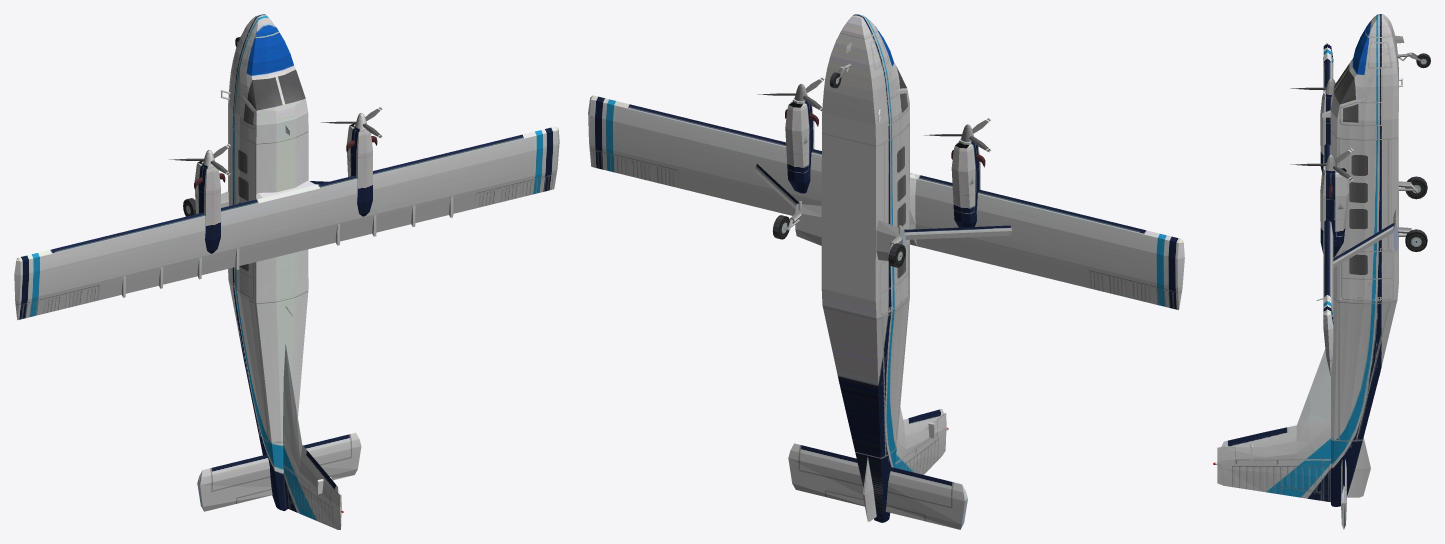
The model's file is y12-harbin.glb.
3 renders of one model, left to right at view 1: azimuth 30°, elevation 25°; view 2: azimuth 150°, elevation 25°; view 3: azimuth 270°, elevation 25°, orthographic. The views are drawn at different scales.
Visible parts, largest first — view 1: y12_new_3ds; view 2: y12_new_3ds; view 3: y12_new_3ds.
Boxes of the visible parts, box(x1,y1,x2,y2) form: y12_new_3ds: box(14, 14, 559, 529); y12_new_3ds: box(588, 14, 1184, 529); y12_new_3ds: box(1213, 14, 1430, 529).
Bounding box in the file's own units: 0.6975 × 0.5858 × 0.2353.
1 material, 1 textured.
